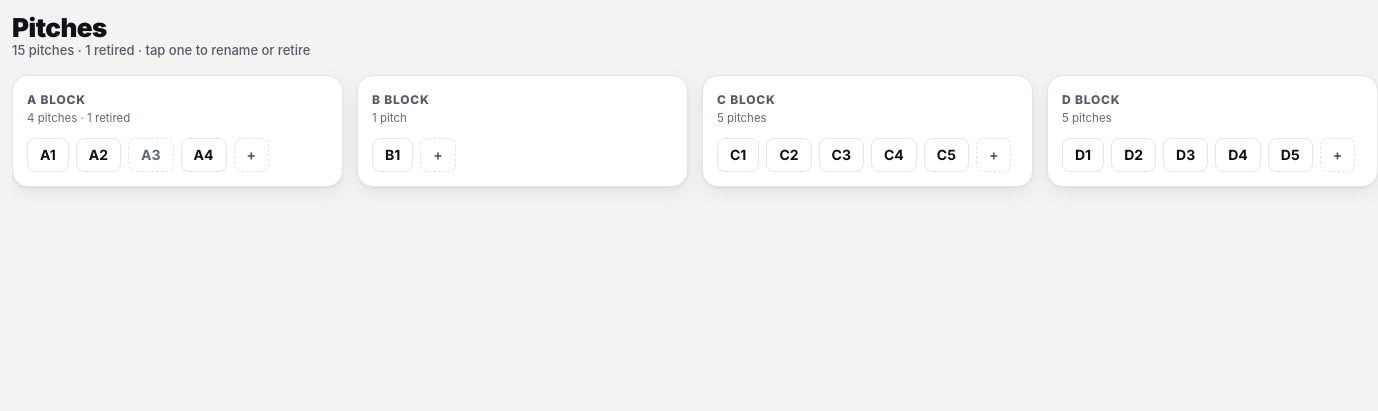
it: the screen › ⚠️ surfaces a refused save rather than closing as if it worked
Click the button "A1" at (48,155), box [27,138,69,172]
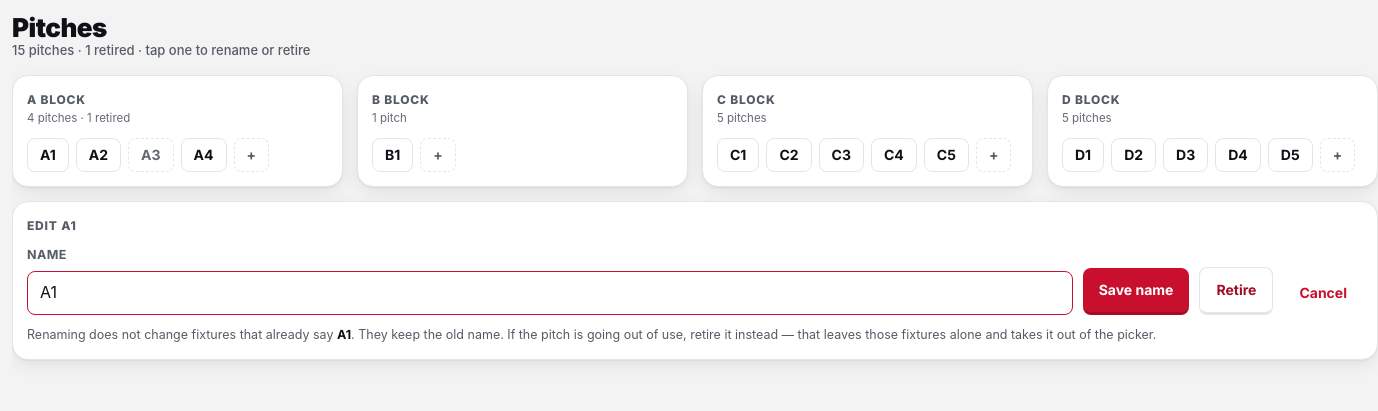
Click the button "Save name" at (1136,291), box [1083,268,1189,315]
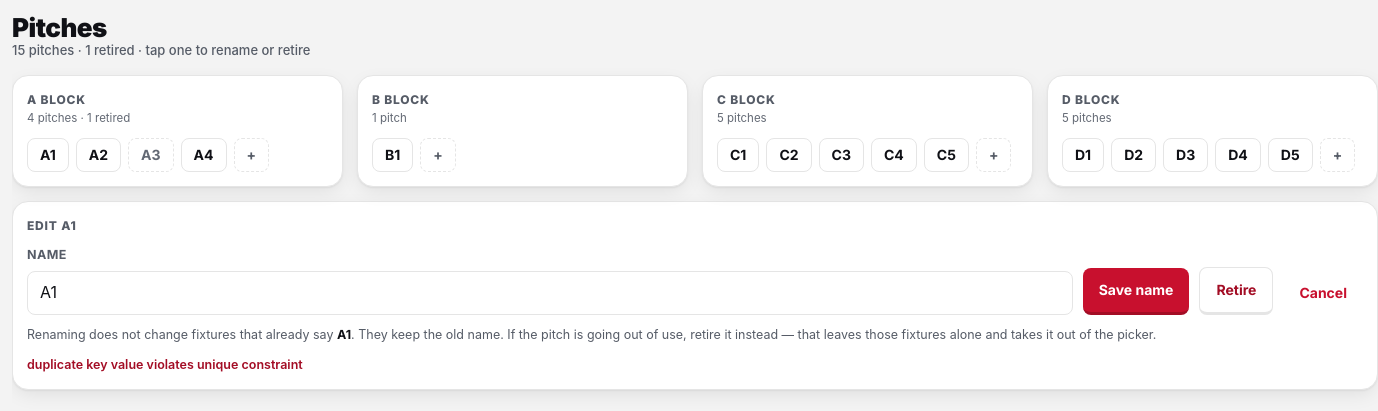
Expected: the message shows "duplicate key", [27,357,303,372]
